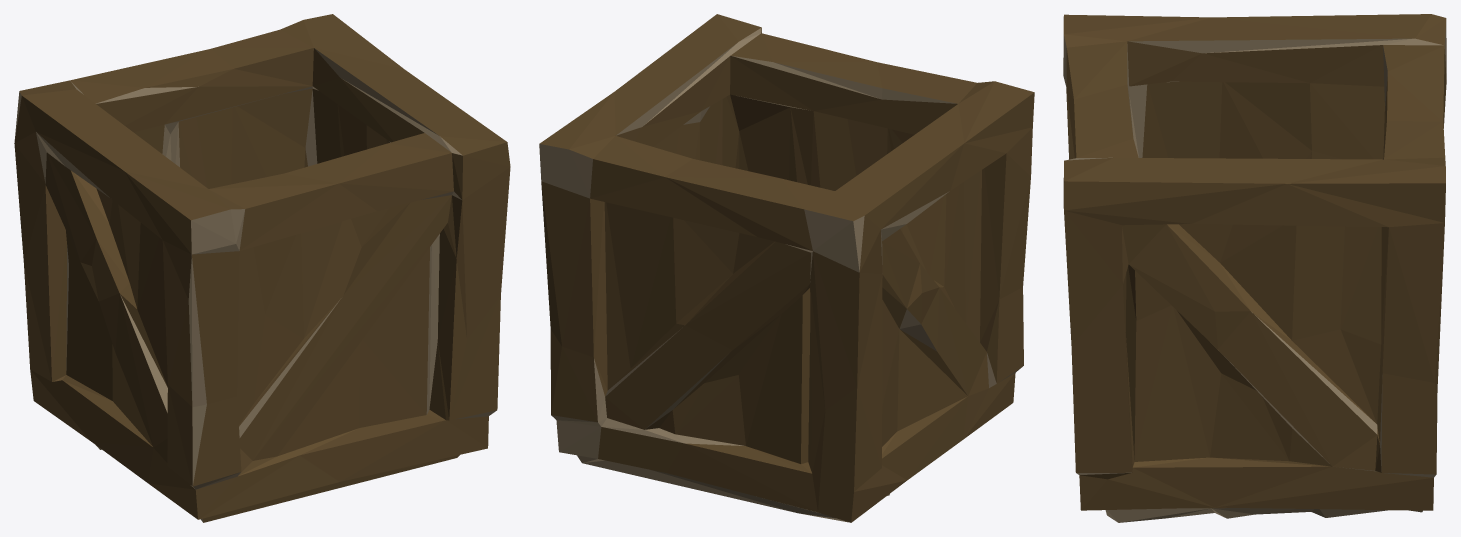
The model's file is MDungeon_CrateOpen_01.FBX.
3 renders of one model, left to right at view 1: azimuth 30°, elevation 25°; view 2: azimuth 150°, elevation 25°; view 3: azimuth 270°, elevation 25°, orthographic. The views are drawn at different scales.
Visible parts, largest first — view 1: MDungeon_CrateOpen_01_LOD0; view 2: MDungeon_CrateOpen_01_LOD0; view 3: MDungeon_CrateOpen_01_LOD0.
Part boxes in pixels (x1,y1,x2,y2): MDungeon_CrateOpen_01_LOD0: [14, 14, 510, 522]; MDungeon_CrateOpen_01_LOD0: [539, 14, 1034, 522]; MDungeon_CrateOpen_01_LOD0: [1063, 14, 1446, 522].
Size of what is drawn, in the model's own units: 1.03 by 0.996 by 0.979.
